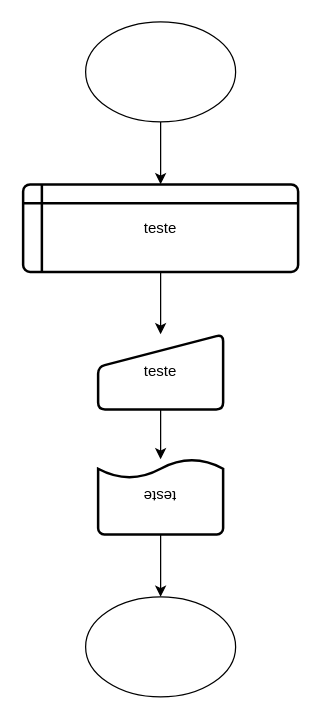
Image size: 320x719. Some labels were removed from this diagram. Each missing label, with the centre of its shape:
"end" goes at point 160,646.
"start" goes at point 160,71.
